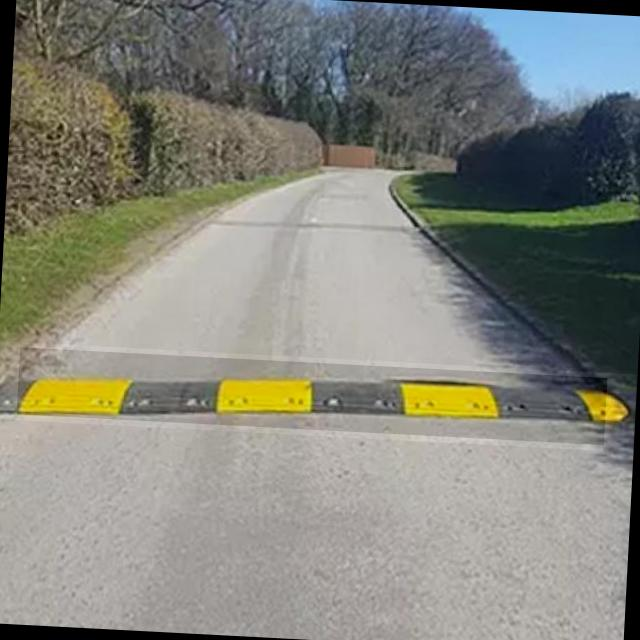bump: (16, 347, 608, 445)
